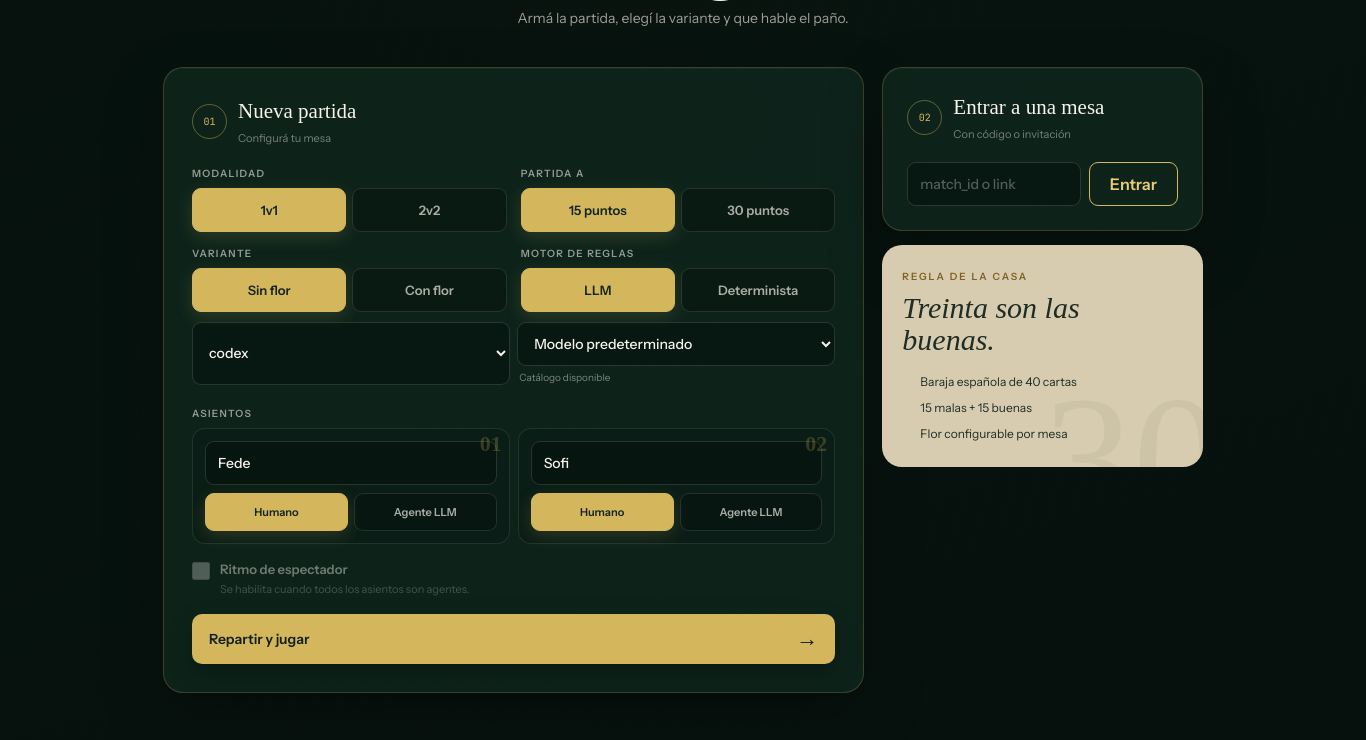
Test: volver a marcar un asiento como humano desactiva el paso a paso
(page scrolled)
Click the button with test id "seat-0-kind-agent".
click(425, 512)  # box [354, 493, 497, 531]
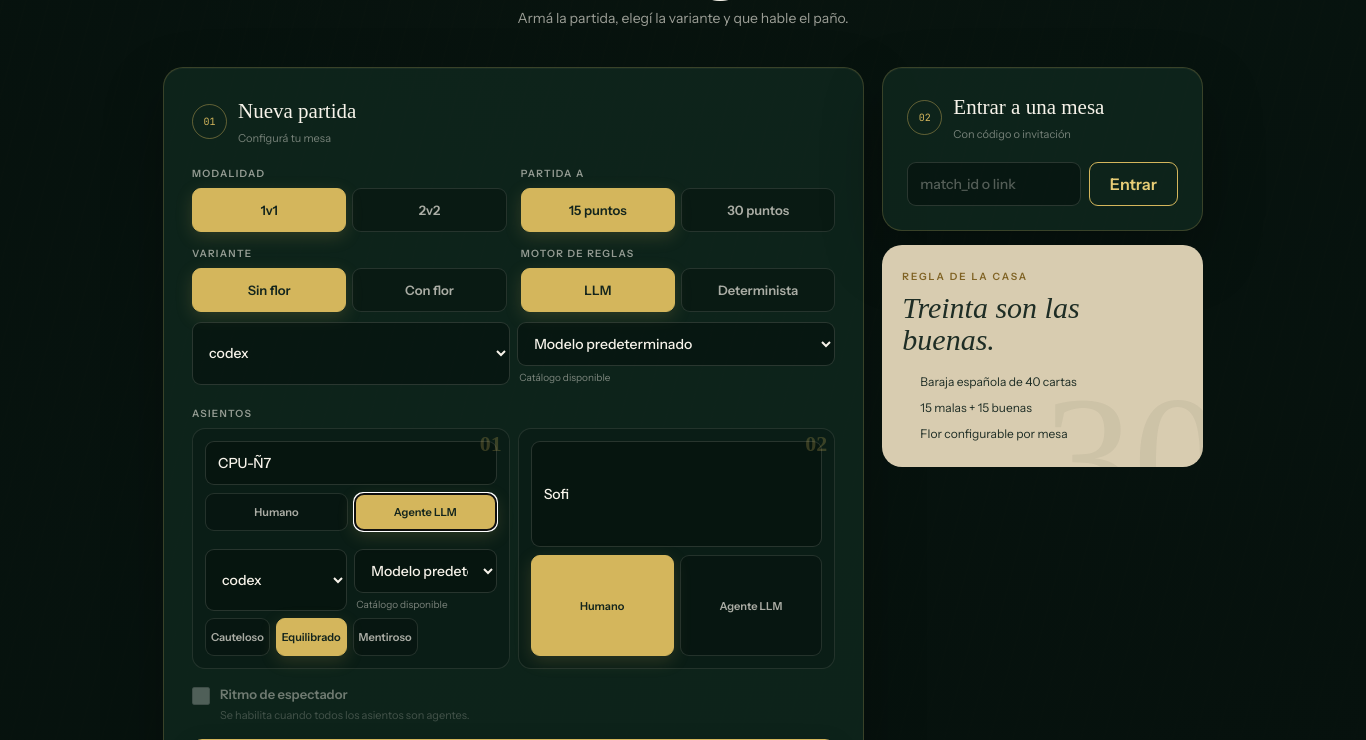
Click the button with test id "seat-1-kind-agent".
click(751, 606)  # box [680, 555, 822, 656]
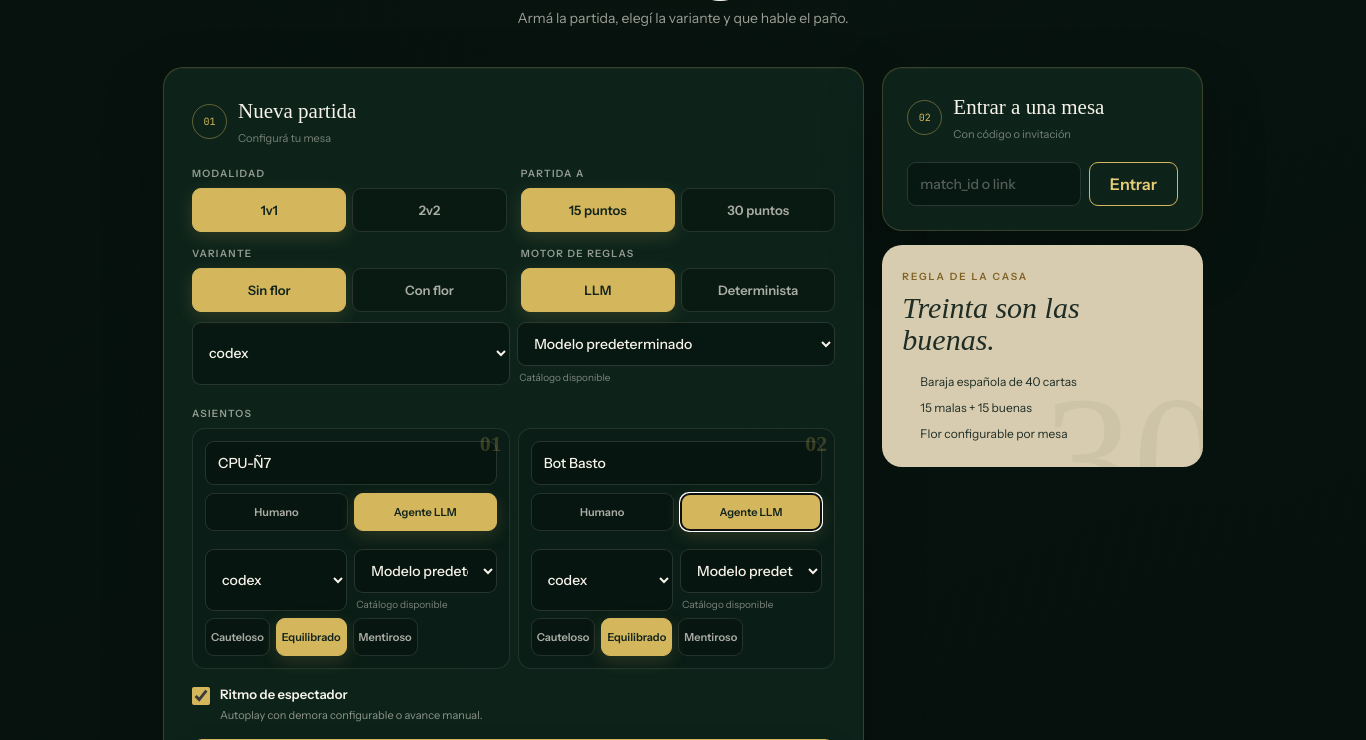
Now the checkbox with test id "step-mode" is checked, box [192, 687, 210, 705]
Click the button with test id "seat-0-kind-web".
click(276, 512)  # box [205, 493, 348, 531]
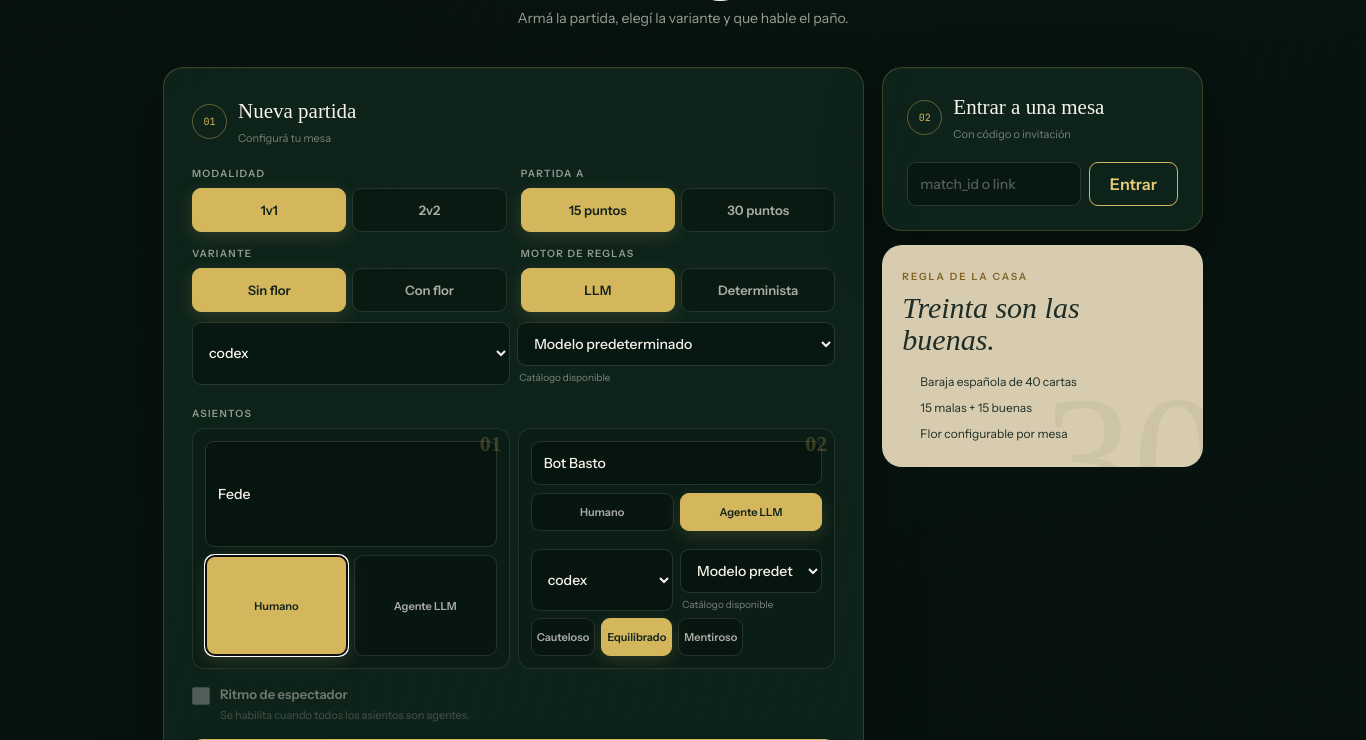
Now the checkbox with test id "step-mode" is disabled, box [192, 687, 210, 705]
Now the checkbox with test id "step-mode" is not checked, box [192, 687, 210, 705]
